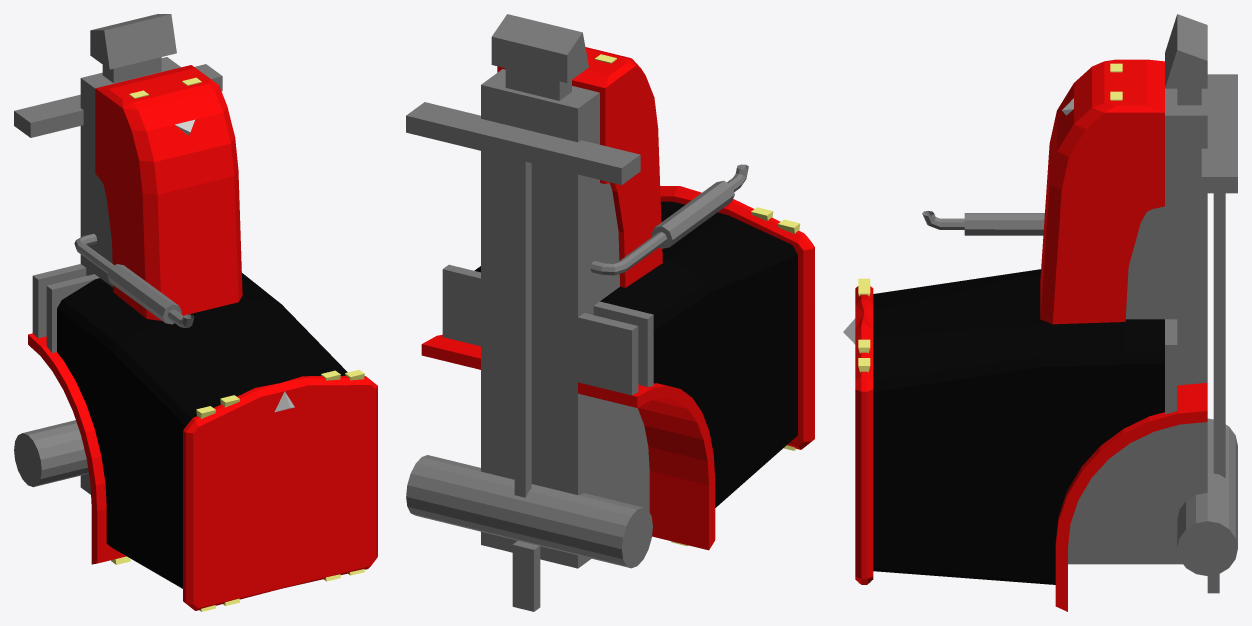
The model's file is tractor.obj.
3 views of the same model, side by side, from view 1: azimuth 30°, elevation 25°; view 2: azimuth 150°, elevation 25°; view 3: azimuth 270°, elevation 25° (orthographic). The views are drawn at different scales.
Visible parts, largest first — view 1: Object.1; view 2: Object.1; view 3: Object.1.
Part boxes in pixels (x1,y1,x2,y2): Object.1: (14,14,377,611); Object.1: (406,14,814,611); Object.1: (843,14,1237,611).
Bounding box in the file's own units: 2216 × 5594 × 3600.
